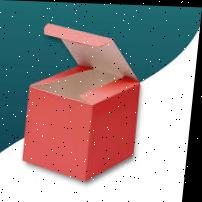cube: (23, 65, 145, 182)
